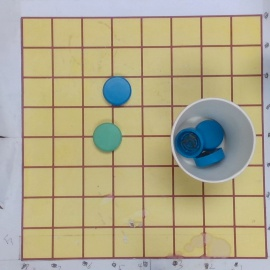blue: (102, 77, 133, 106)
cup_blue: (171, 99, 256, 186)
green: (91, 123, 123, 152)
